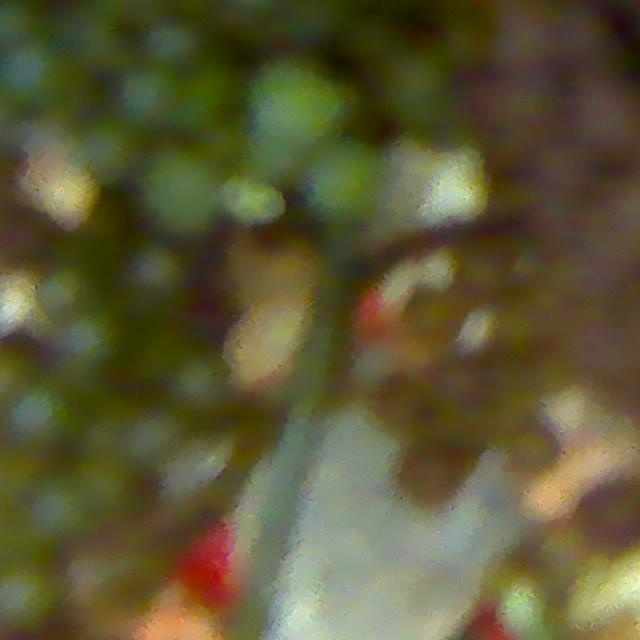SeaGrape: (244, 50, 354, 157), (63, 532, 169, 625), (138, 144, 226, 237), (305, 139, 391, 224), (17, 468, 100, 554), (376, 49, 457, 133), (51, 302, 127, 382), (69, 449, 146, 524), (0, 36, 75, 113), (0, 555, 66, 638), (115, 402, 190, 474), (5, 378, 77, 452), (121, 242, 193, 315), (391, 441, 469, 505), (117, 62, 185, 133), (168, 350, 235, 420), (577, 481, 640, 545), (141, 16, 203, 74), (376, 376, 435, 429)
